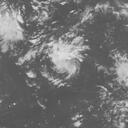cyclone: (41, 35, 83, 76)
